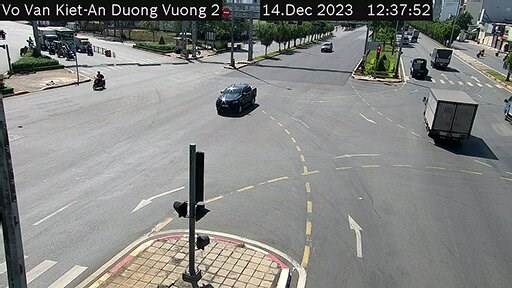car: (213, 79, 257, 116)
motorbike: (91, 70, 107, 92)
truck: (419, 86, 480, 141), (429, 47, 455, 70), (409, 56, 431, 80), (318, 39, 334, 56)
